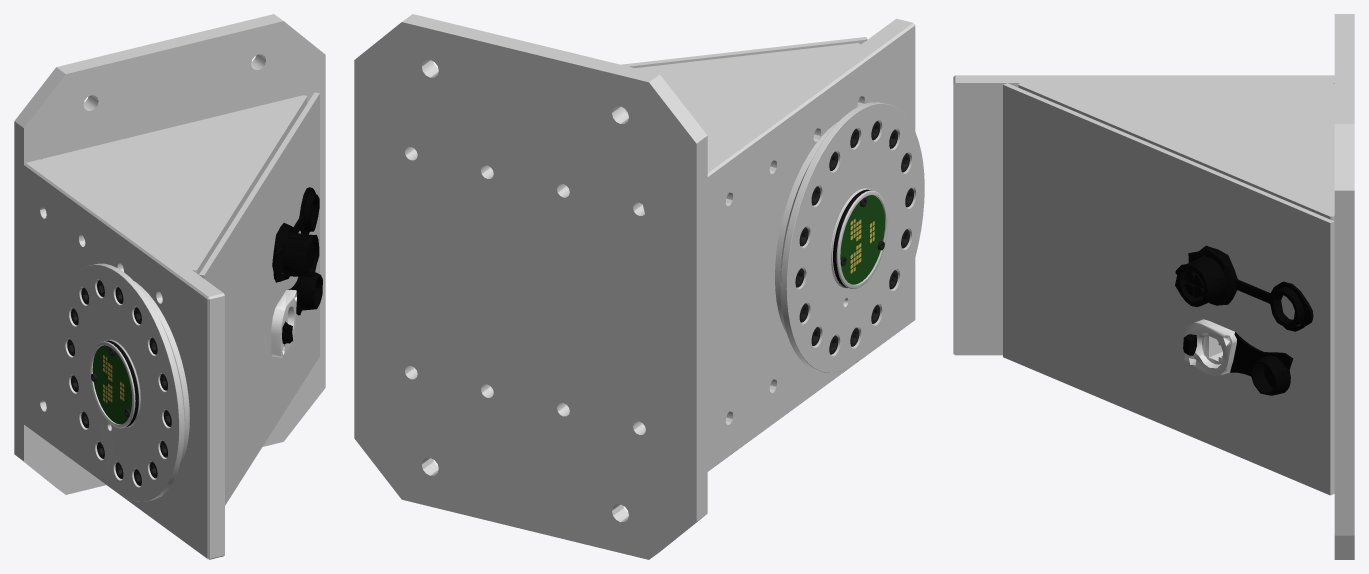
File: B148-90deg.glb
The picture shows the model from 3 angles, left to right: view 1: azimuth 30°, elevation 25°; view 2: azimuth 150°, elevation 25°; view 3: azimuth 270°, elevation 25°; orthographic projection. The views are drawn at different scales.
Visible parts, largest first — view 1: B148-90deg.001; view 2: B148-90deg.001; view 3: B148-90deg.001.
Part boxes in pixels (x1,y1,x2,y2): B148-90deg.001: [14, 14, 325, 559]; B148-90deg.001: [354, 14, 924, 559]; B148-90deg.001: [953, 14, 1354, 559].
Bounding box in the file's own units: 0.1955 × 0.24 × 0.2003.
